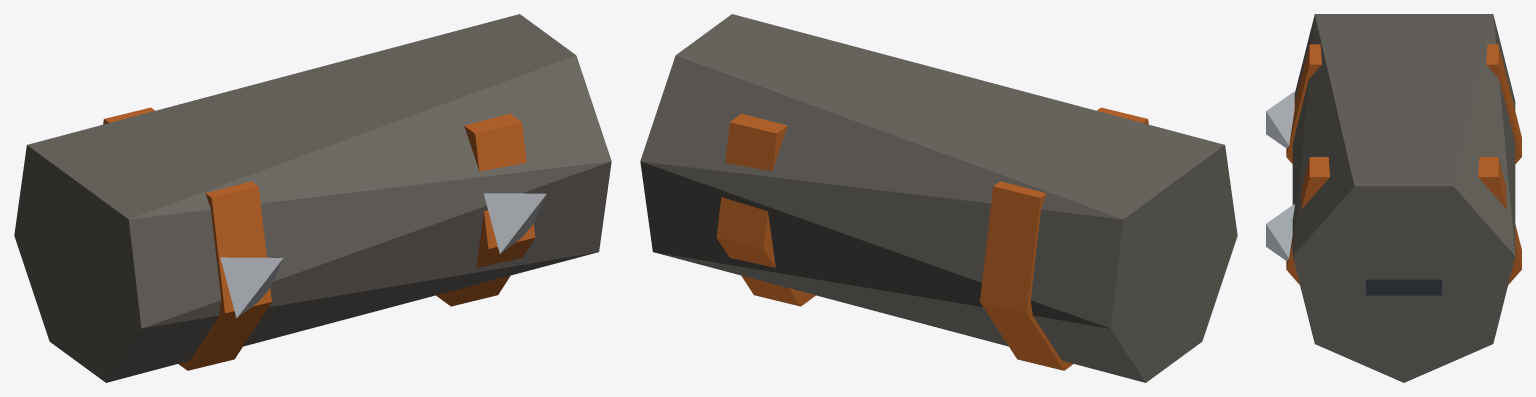
File: kit-roll.lod.glb
3 renders of one model, left to right at view 1: azimuth 30°, elevation 25°; view 2: azimuth 150°, elevation 25°; view 3: azimuth 270°, elevation 25°, orthographic. The views are drawn at different scales.
Parts seen in each view (by area): view 1: kit-roll; view 2: kit-roll; view 3: kit-roll.
Part boxes in pixels (x1,y1,x2,y2): kit-roll: (14,14,611,382); kit-roll: (640,14,1237,382); kit-roll: (1266,14,1521,382).
Bounding box in the file's own units: 0.54 × 0.2281 × 0.2688.
